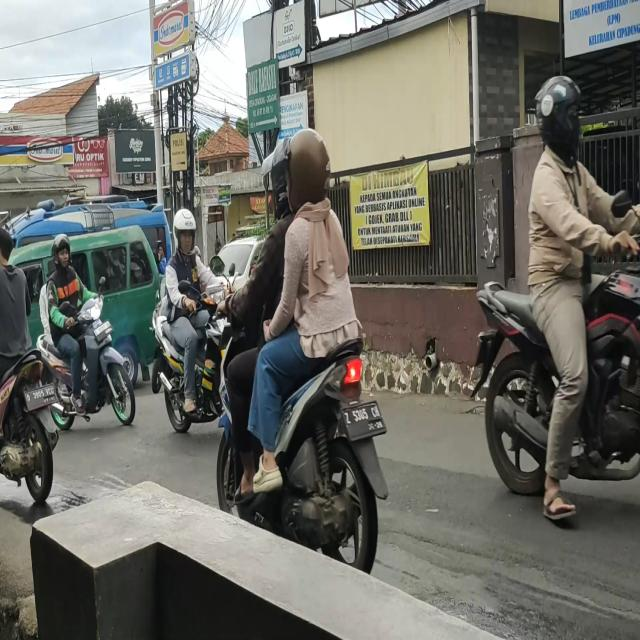helmet: (536, 75, 582, 158), (288, 132, 330, 209), (264, 146, 290, 211), (173, 209, 196, 258), (51, 233, 72, 270)
no-helmet: (0, 226, 14, 268)
